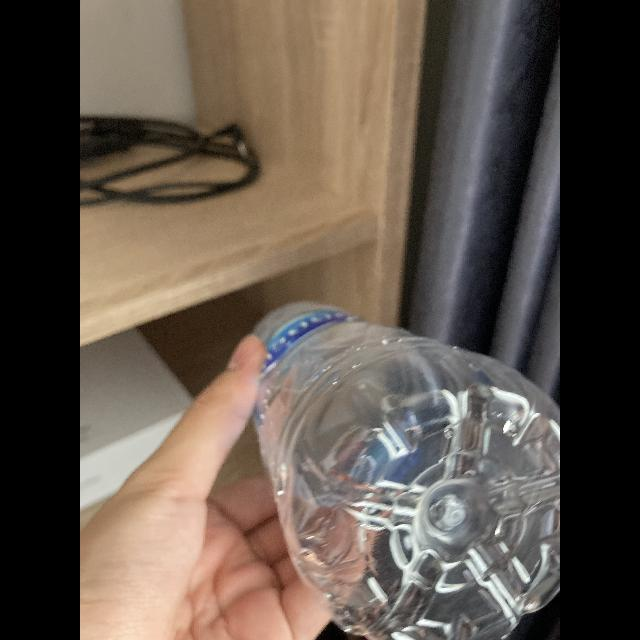plastic_bottle: (226, 290, 560, 640)
